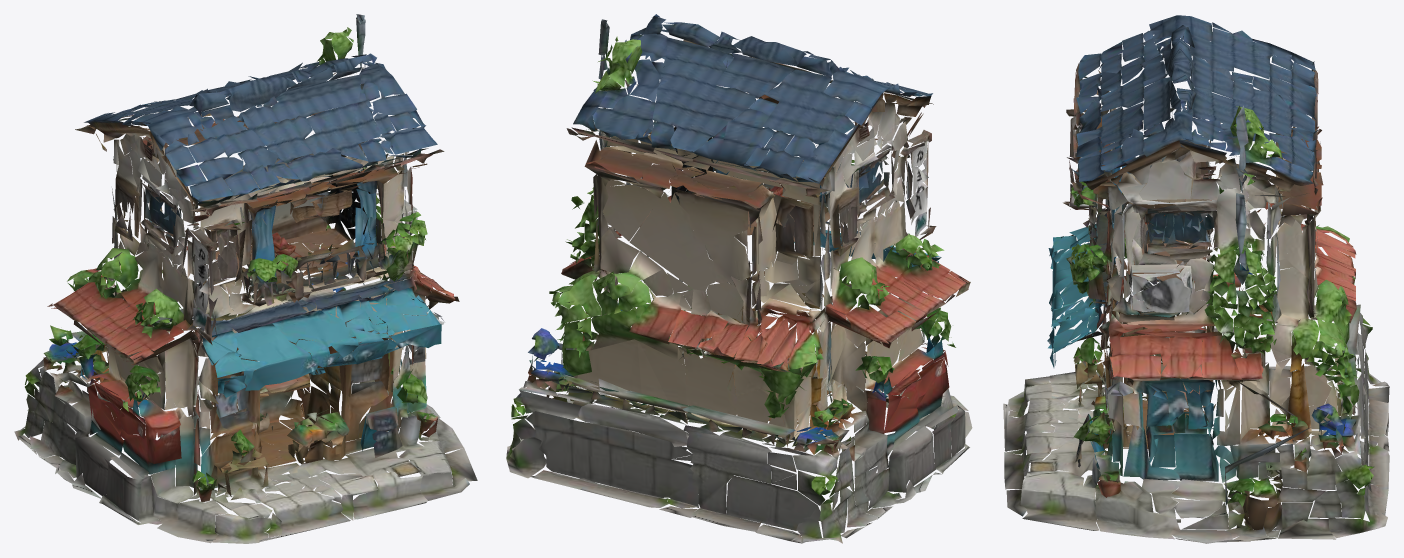
Rendered from building18.glb.
3 views of the same model, side by side, from view 1: azimuth 30°, elevation 25°; view 2: azimuth 150°, elevation 25°; view 3: azimuth 270°, elevation 25° (orthographic). The views are drawn at different scales.
Visible parts, largest first — view 1: tripo_node_800deb3d-6f66-4a9e-8493-b2b448cf9b79; view 2: tripo_node_800deb3d-6f66-4a9e-8493-b2b448cf9b79; view 3: tripo_node_800deb3d-6f66-4a9e-8493-b2b448cf9b79.
Part boxes in pixels (box(x1,y1,x2,y2)): tripo_node_800deb3d-6f66-4a9e-8493-b2b448cf9b79: box(14, 14, 477, 543); tripo_node_800deb3d-6f66-4a9e-8493-b2b448cf9b79: box(506, 14, 972, 543); tripo_node_800deb3d-6f66-4a9e-8493-b2b448cf9b79: box(1003, 15, 1389, 543).
Bounding box in the file's own units: 0.9216 × 0.9996 × 0.8411.
1 material, 1 textured.
